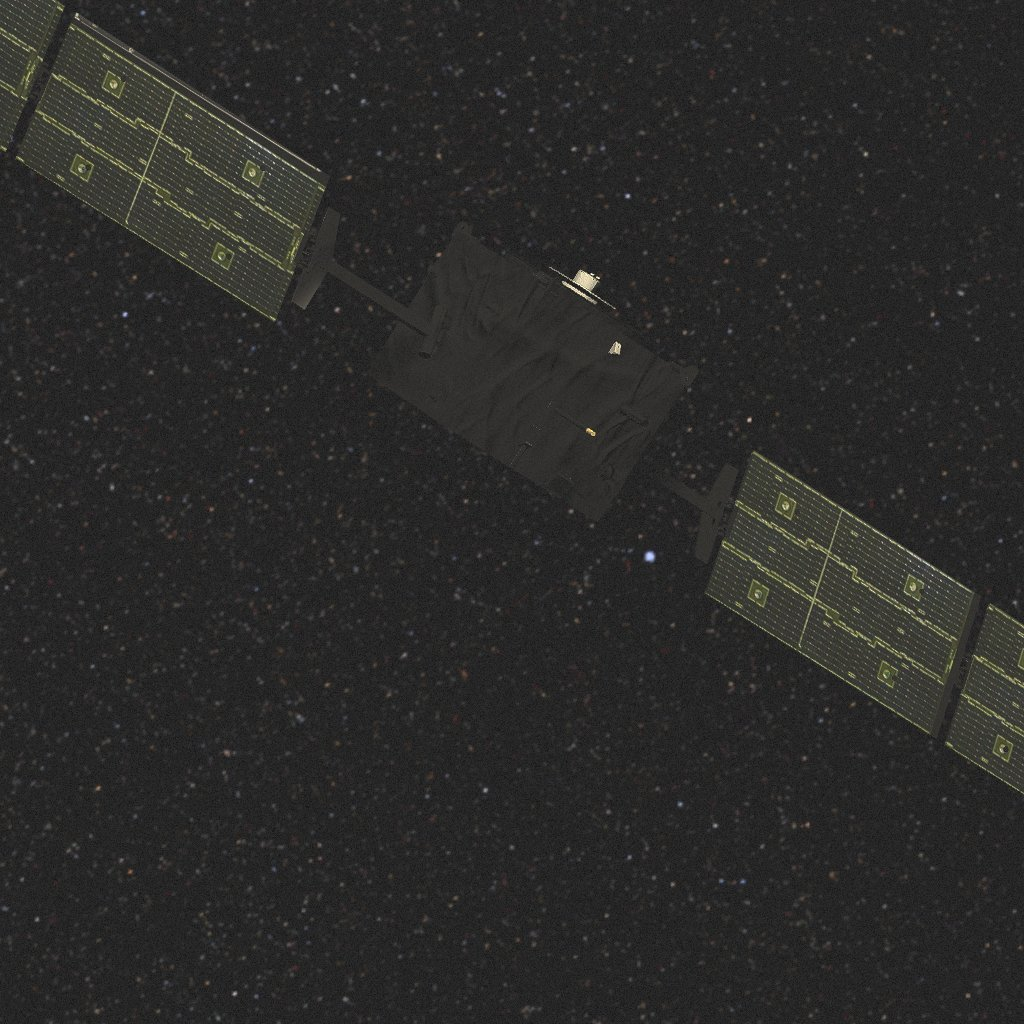smart_1: (0, 0, 1024, 796)
